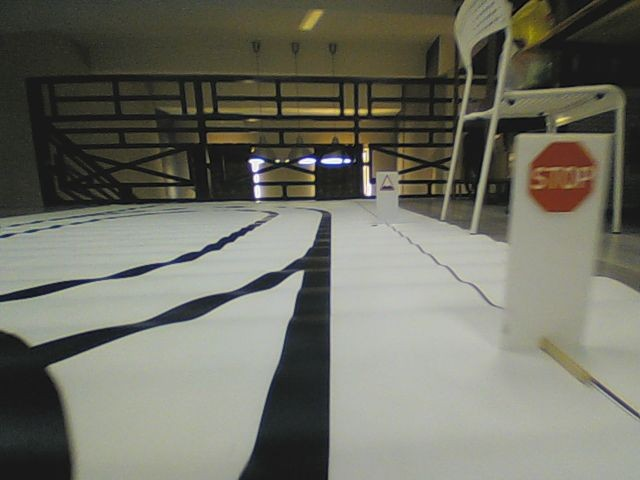Nerov: (379, 173, 394, 192)
Stop: (527, 140, 595, 214)
